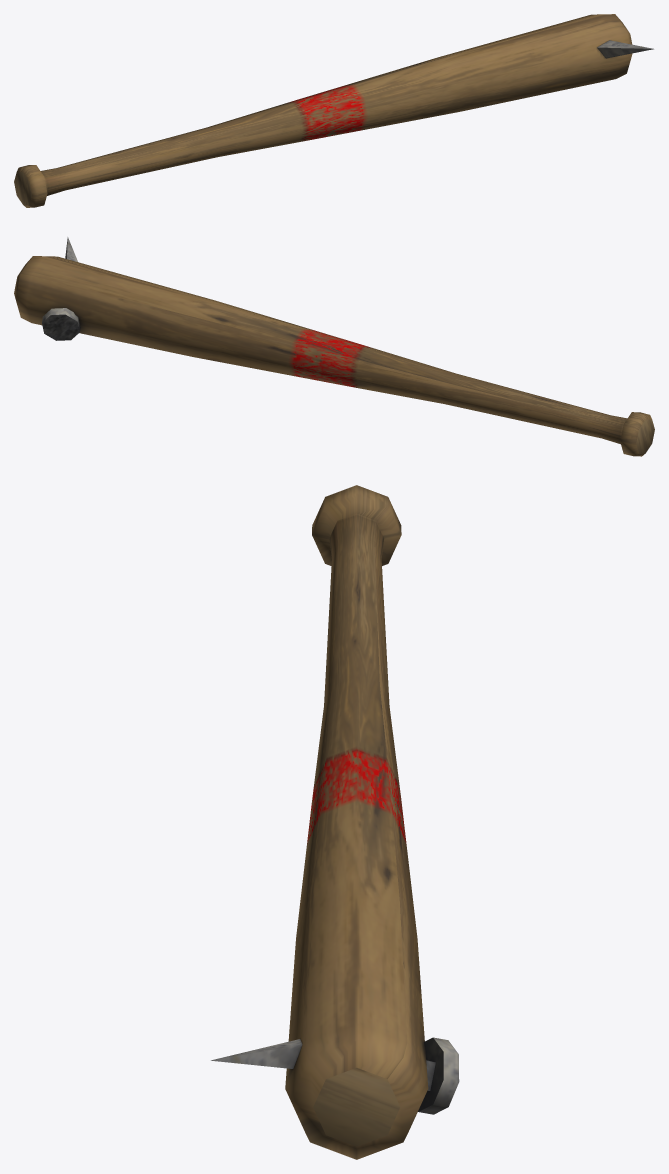
File: BaseBallBat.FBX
The picture shows the model from 3 angles, top to bottom: view 1: azimuth 30°, elevation 25°; view 2: azimuth 150°, elevation 25°; view 3: azimuth 270°, elevation 25°; orthographic projection. The views are drawn at different scales.
Parts seen in each view (by area): view 1: BaseballBat; view 2: BaseballBat; view 3: BaseballBat.
Boxes of the visible parts, bbox=[...] form: BaseballBat: bbox=[14, 14, 653, 207]; BaseballBat: bbox=[14, 237, 654, 456]; BaseballBat: bbox=[211, 485, 459, 1159].
Size of the model in its own units: 42.72 by 4.41 by 7.69.
Materials: 1 (1 with a texture image).
